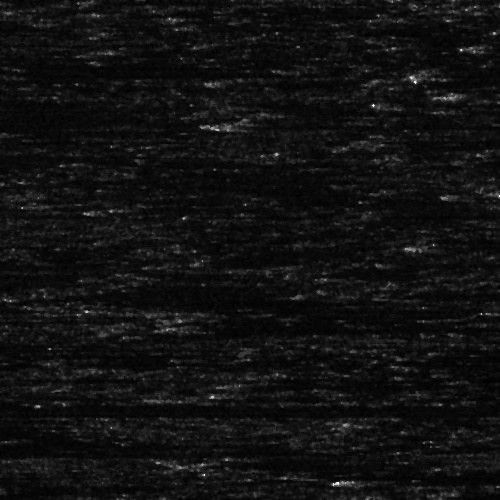object: (154, 318, 227, 337), (311, 478, 384, 485), (0, 67, 42, 78), (82, 203, 135, 210), (153, 24, 206, 29), (223, 381, 244, 386)
shadow: (191, 318, 460, 337), (0, 47, 285, 64), (0, 54, 239, 71), (0, 67, 243, 78), (108, 203, 284, 210), (0, 441, 109, 448), (0, 344, 135, 349), (348, 478, 439, 485), (234, 381, 324, 386), (180, 24, 268, 29), (0, 434, 44, 443), (0, 480, 35, 489), (0, 360, 32, 363)
